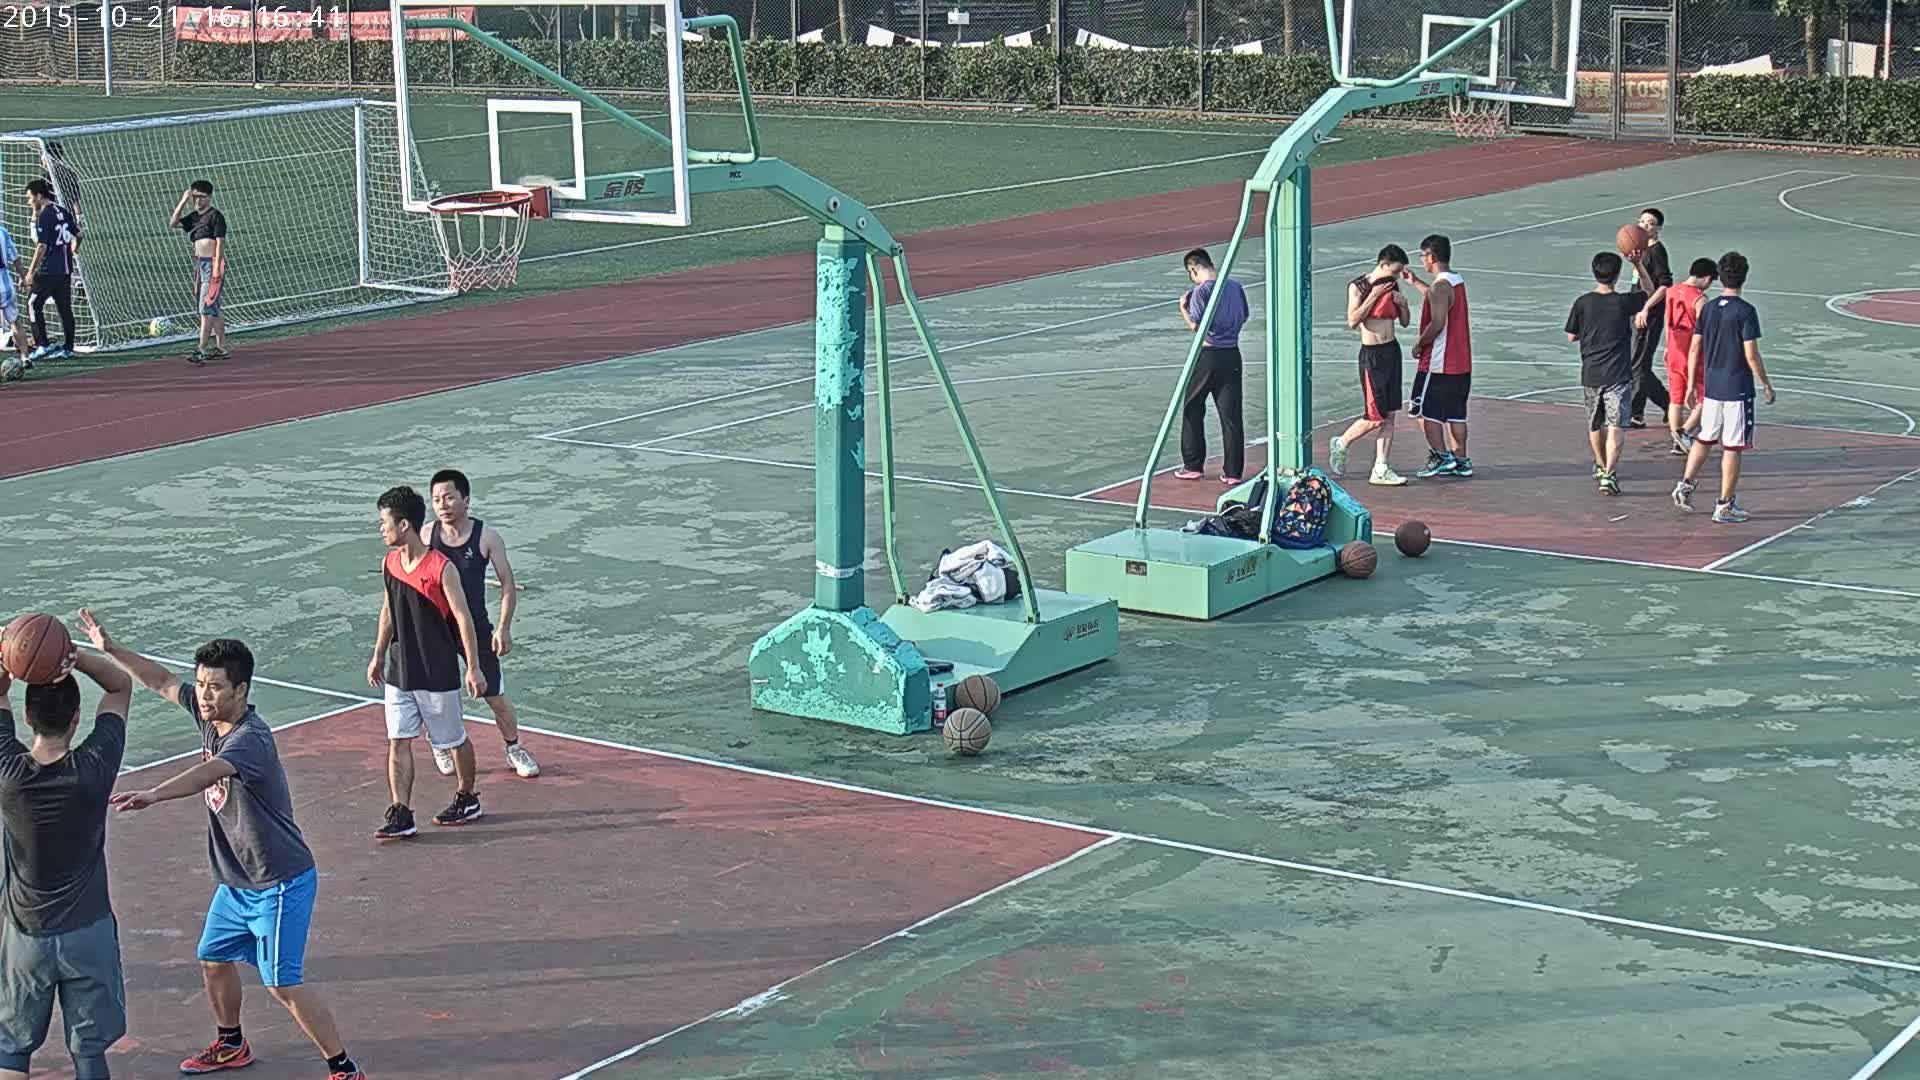person: (68, 605, 367, 1080), (0, 613, 131, 1080), (0, 625, 130, 1080), (367, 488, 489, 840), (416, 469, 542, 777), (1668, 250, 1775, 523), (1566, 223, 1654, 495), (1565, 247, 1654, 495), (1329, 244, 1411, 486), (1172, 248, 1249, 485), (1399, 234, 1473, 477), (168, 179, 230, 363), (1666, 256, 1722, 454), (1624, 208, 1672, 431), (22, 179, 80, 361), (28, 140, 87, 302), (0, 223, 35, 368), (1178, 0, 1200, 45), (578, 3, 593, 40)
